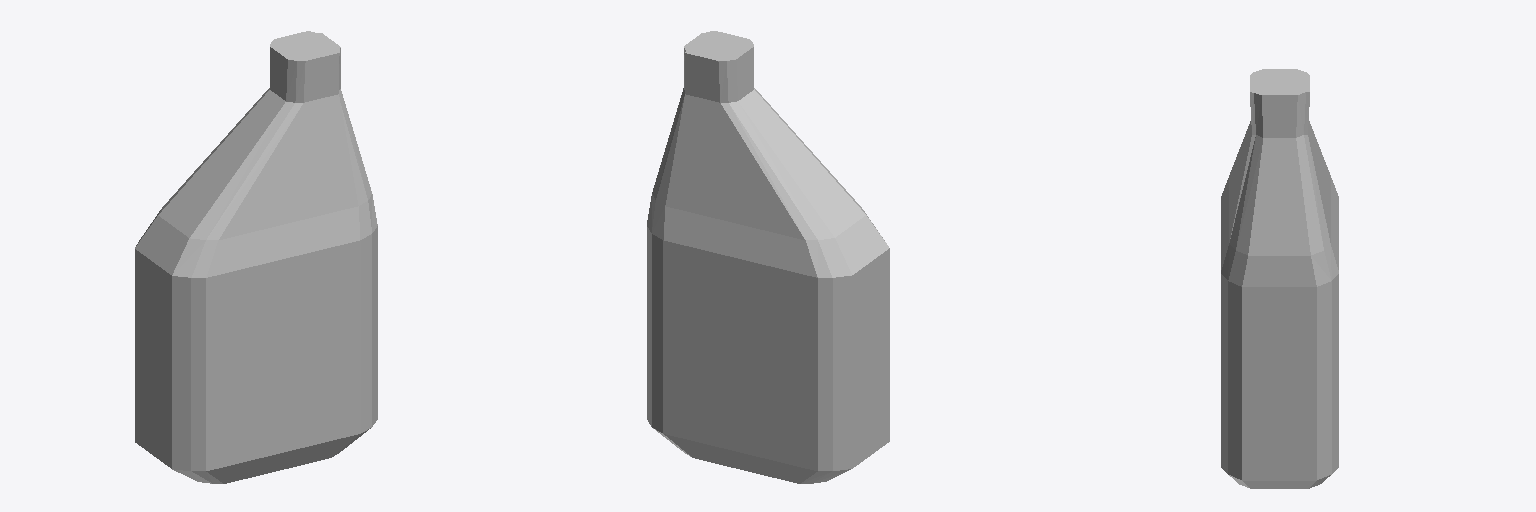
File: Aceite.obj
3 views of the same model, side by side, from view 1: azimuth 30°, elevation 25°; view 2: azimuth 150°, elevation 25°; view 3: azimuth 270°, elevation 25° (orthographic).
Visible parts, largest first — view 1: Aceite; view 2: Aceite; view 3: Aceite.
Boxes of the visible parts, box(x1,y1,x2,y2) form: Aceite: box(135, 31, 377, 483); Aceite: box(647, 31, 889, 483); Aceite: box(1221, 69, 1338, 488).
Size of the model in its own units: 19.7 by 36.14 by 9.85.